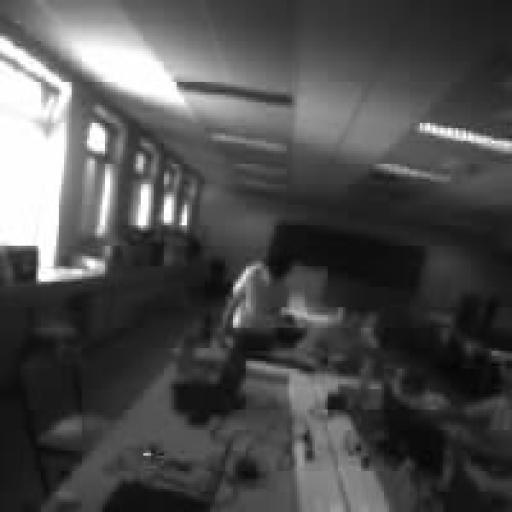human: (459, 364, 511, 506), (221, 251, 291, 353), (295, 308, 379, 366)
